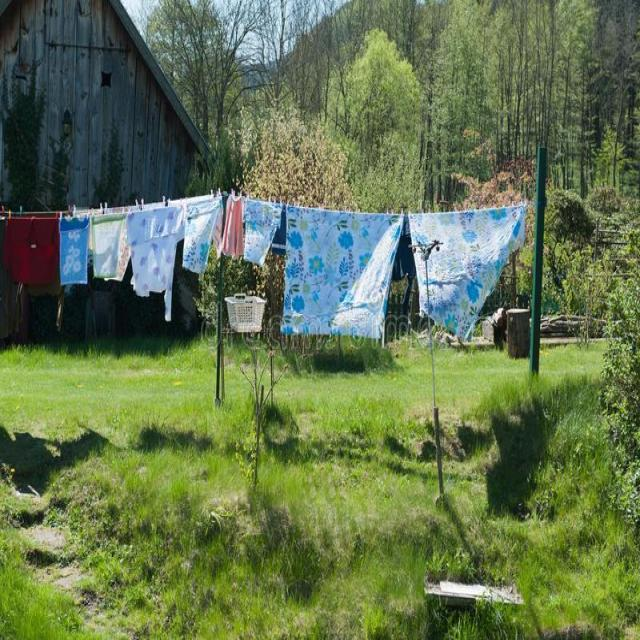clothes: (63, 224, 530, 325)
